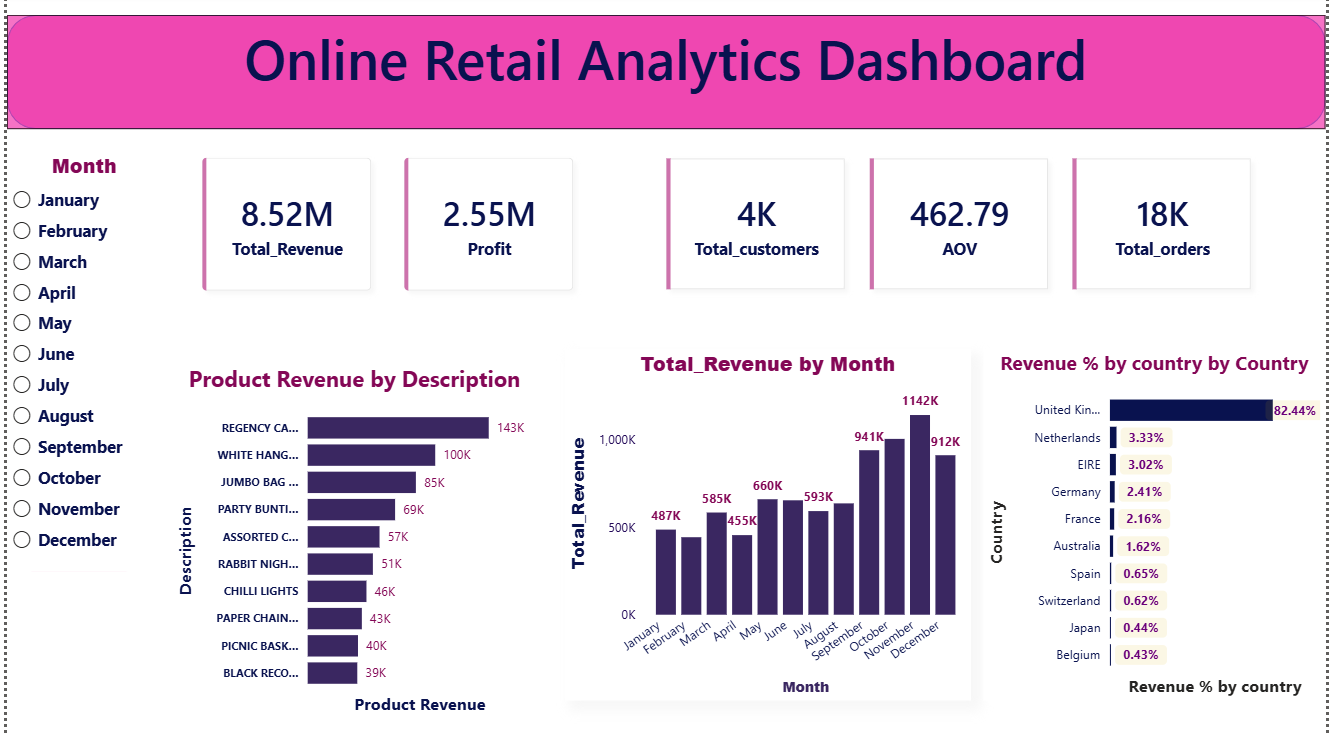

The page's visual inventory and layout, read from the dashboard file:
{"tool":"powerbi","page":{"name":"Dashboard","canvas":[1280,720],"ordinal":0},"visuals":[{"type":"cardVisual","fields":{"Data":["online_retail.Total_customers","online_retail.AOV","online_retail.Total_orders"]},"box":[610.2,130.2,629.9,187.8],"z":0},{"type":"cardVisual","fields":{"Data":["online_retail.Total_Revenue","online_retail.Profit"]},"box":[160.5,130.2,419.4,187.8],"z":1000},{"type":"shape","box":[0,19.7,1279.5,110.5],"z":2000},{"type":"textbox","box":[0,19.7,1279.5,110.5],"z":3000},{"type":"shape","box":[0,160,140,400],"z":4000},{"type":"listSlicer","fields":{"Values":["online_retail.InvoiceDate.Variation.Date Hierarchy.Month"]},"box":[0,152.9,149.9,407.3],"z":5000},{"type":"clusteredColumnChart","fields":{"Category":["online_retail.InvoiceDate.Variation.Date Hierarchy.Month"],"Y":["online_retail.Total_Revenue"]},"box":[542.1,345.2,393.7,340.7],"z":6000},{"type":"clusteredBarChart","fields":{"Category":["online_retail.Description"],"Y":["online_retail.Product Revenue"]},"box":[160.5,357.4,354.3,345.2],"z":7000},{"type":"clusteredBarChart","fields":{"Category":["online_retail.Country"],"Y":["online_retail.Revenue %"]},"box":[947.9,345.2,331.6,340.7],"z":9000}]}

Visuals, with their boxes in screenshot pixels (x1, y1, x2, y2), scaled from the page's 1280x720 canvas onto the 1329x735 screenshot:
cardVisual - online_retail.Total_customers x online_retail.AOV: {"x1": 634, "y1": 133, "x2": 1288, "y2": 325}
cardVisual - online_retail.Total_Revenue x online_retail.Profit: {"x1": 167, "y1": 133, "x2": 602, "y2": 325}
shape: {"x1": 0, "y1": 20, "x2": 1328, "y2": 133}
textbox: {"x1": 0, "y1": 20, "x2": 1328, "y2": 133}
shape: {"x1": 0, "y1": 163, "x2": 145, "y2": 572}
listSlicer - online_retail.InvoiceDate.Variation.Date Hierarchy.Month: {"x1": 0, "y1": 156, "x2": 156, "y2": 572}
clusteredColumnChart - online_retail.InvoiceDate.Variation.Date Hierarchy.Month x online_retail.Total_Revenue: {"x1": 563, "y1": 352, "x2": 972, "y2": 700}
clusteredBarChart - online_retail.Description x online_retail.Product Revenue: {"x1": 167, "y1": 365, "x2": 535, "y2": 717}
clusteredBarChart - online_retail.Country x online_retail.Revenue %: {"x1": 984, "y1": 352, "x2": 1328, "y2": 700}
